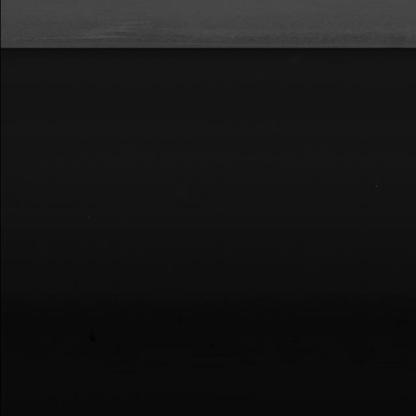silk_spot: (55, 18, 156, 42)
